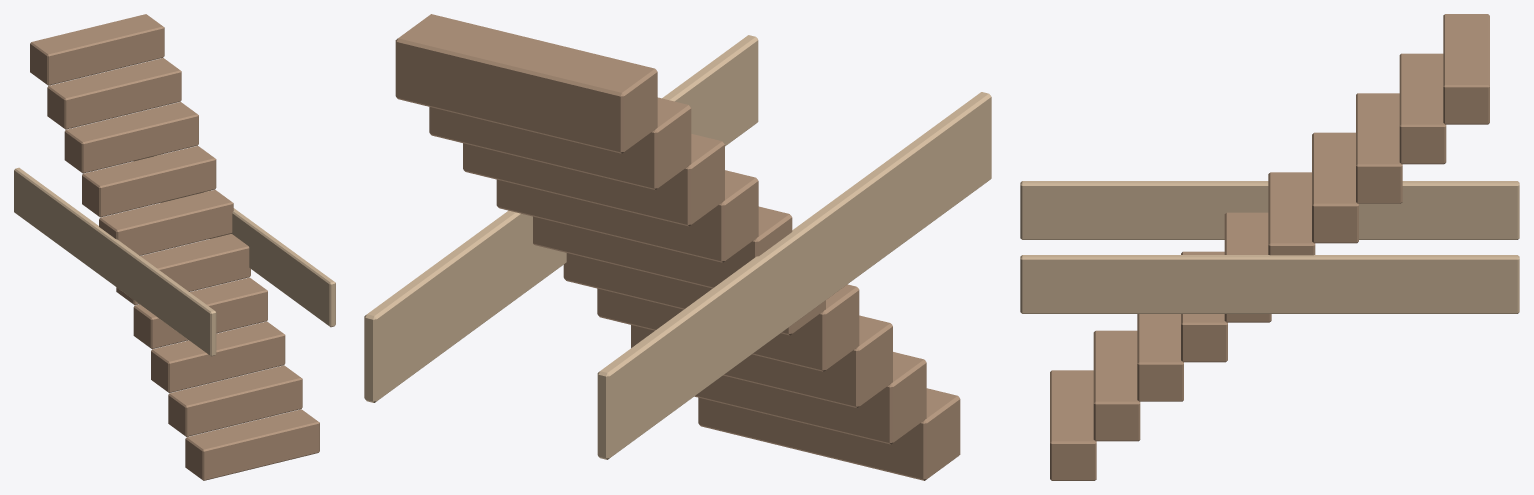
File: SM_Stairs_Interior.fbx
3 renders of one model, left to right at view 1: azimuth 30°, elevation 25°; view 2: azimuth 150°, elevation 25°; view 3: azimuth 270°, elevation 25°, orthographic. The views are drawn at different scales.
Parts seen in each view (by area): view 1: Stairs_Interior; view 2: Stairs_Interior; view 3: Stairs_Interior.
Boxes of the visible parts, x1,y1,x2,y2 form: Stairs_Interior: (14,14,335,480); Stairs_Interior: (364,14,991,480); Stairs_Interior: (1020,14,1519,480).
Size of the model in its own units: 118 by 280 by 320.
